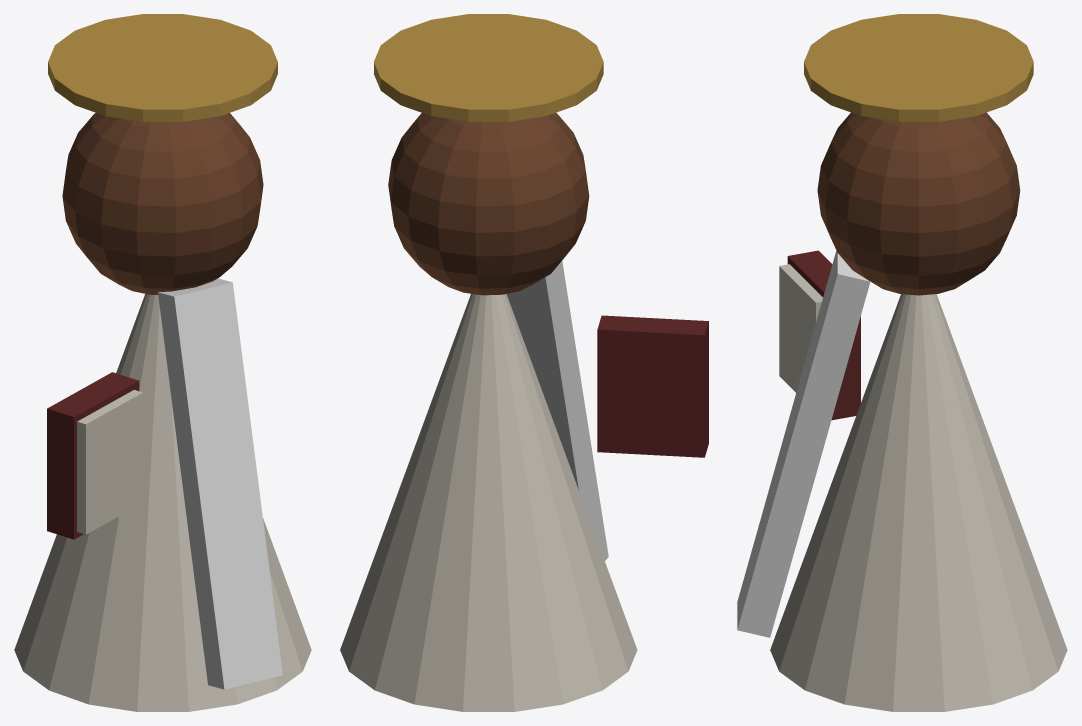
File: saint.9b0c9851.glb
3 views of the same model, side by side, from view 1: azimuth 30°, elevation 25°; view 2: azimuth 150°, elevation 25°; view 3: azimuth 270°, elevation 25° (orthographic).
Parts seen in each view (by area): view 1: body, accent; view 2: body, accent; view 3: body, accent.
Boxes of the visible parts, x1,y1,x2,y2 form: body: (14, 14, 311, 711); accent: (158, 278, 282, 689); body: (340, 14, 708, 711); accent: (506, 261, 608, 560); body: (770, 14, 1067, 711); accent: (737, 250, 870, 637).
Bounding box in the file's own units: 0.5001 × 0.96 × 0.4884.
